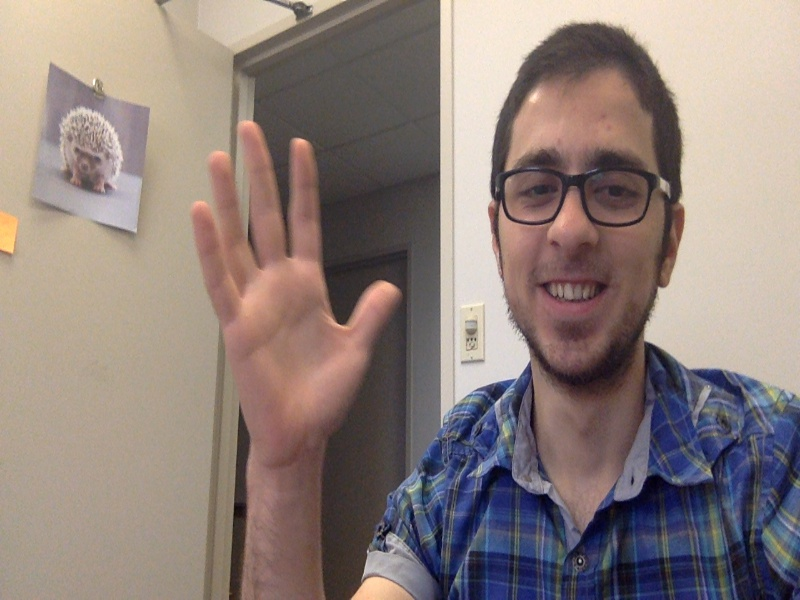5-hand: (191, 120, 404, 459)
